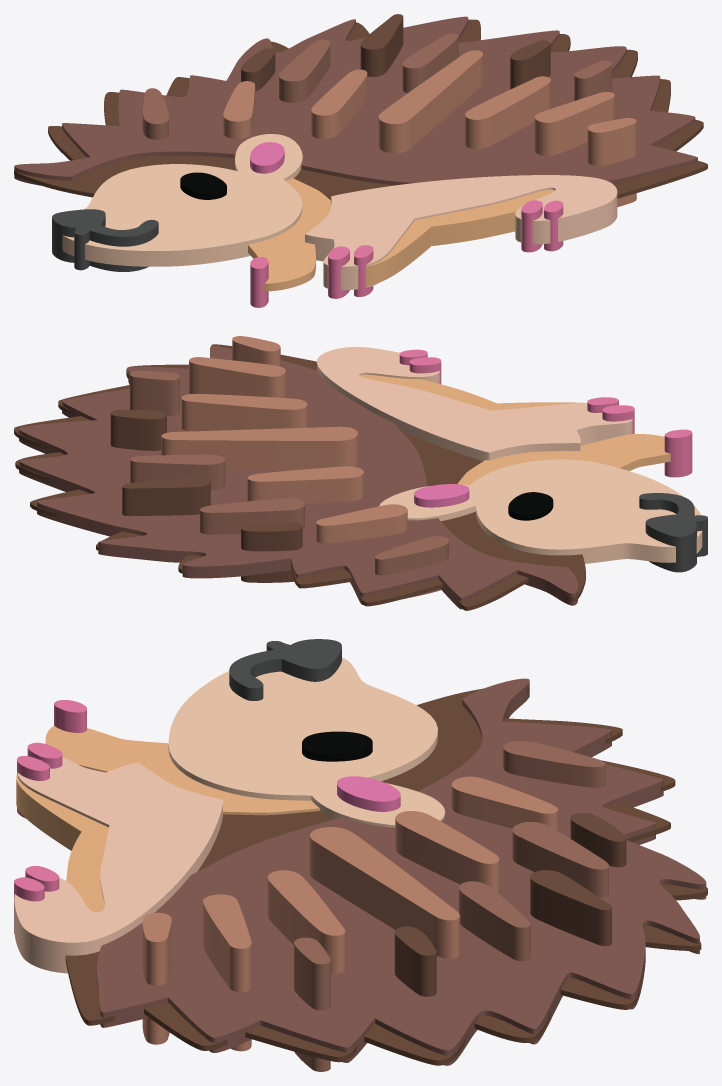
File: emoji_u1f994.glb
3 renders of one model, top to bottom at view 1: azimuth 30°, elevation 25°; view 2: azimuth 150°, elevation 25°; view 3: azimuth 270°, elevation 25°, orthographic. The views are drawn at different scales.
Parts seen in each view (by area): view 1: emoji_u1f994; view 2: emoji_u1f994; view 3: emoji_u1f994.
Boxes of the visible parts, bbox=[...] form: emoji_u1f994: bbox=[14, 14, 707, 307]; emoji_u1f994: bbox=[14, 336, 707, 610]; emoji_u1f994: bbox=[14, 639, 707, 1071].
Size of the model in its own units: 0.0336 by 0.0042 by 0.0245.
